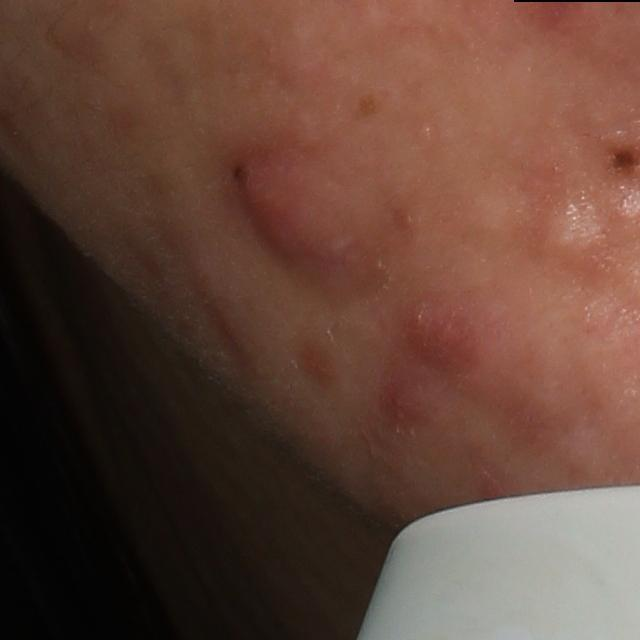hypertrophic_scar: (538, 192, 607, 273), (456, 187, 535, 249)
nodule: (234, 145, 387, 294)
papule: (394, 300, 477, 378), (376, 377, 425, 428)
